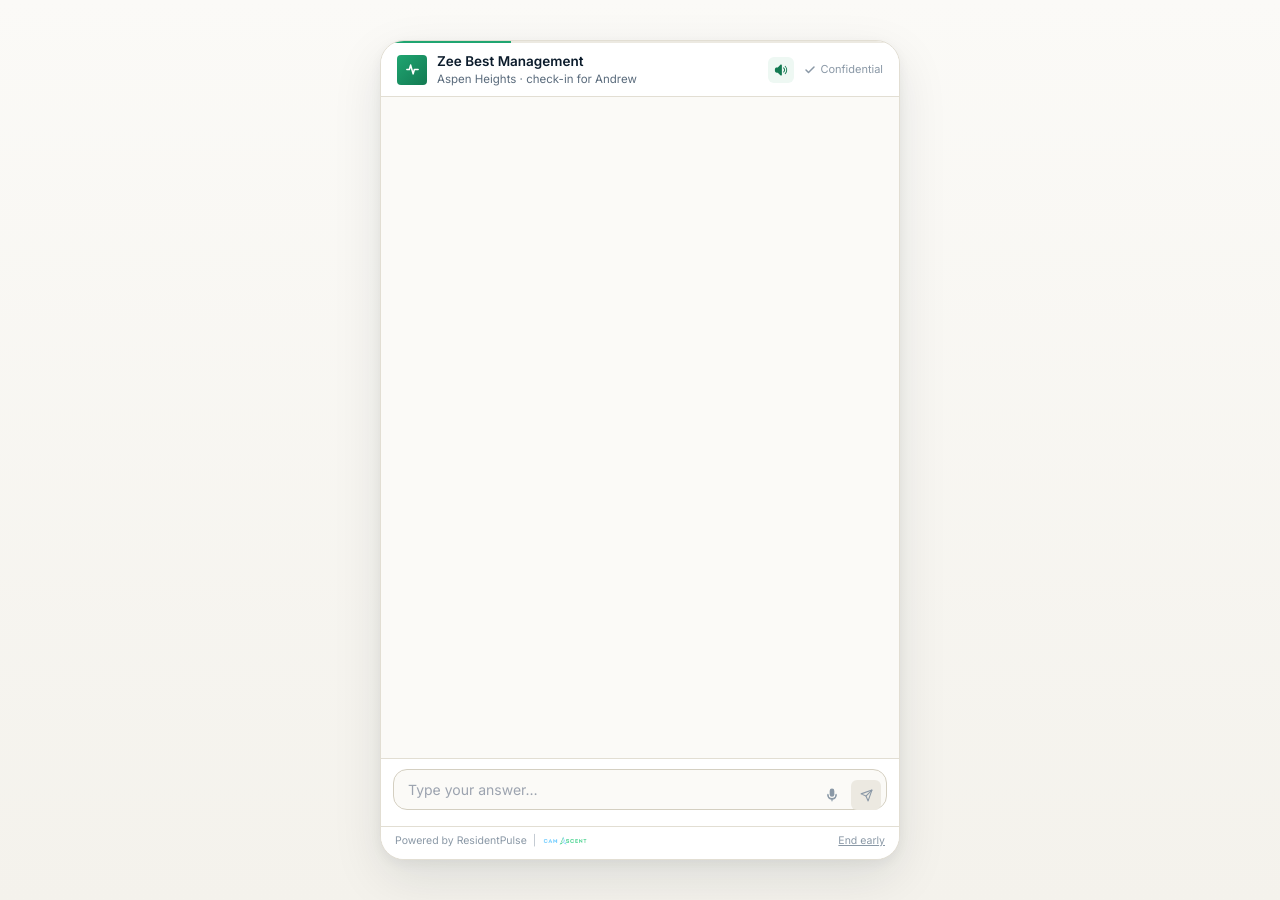
Test: ChatPage › End early PATCHes /complete and shows the thank-you state
Note: Resume puts us straight into conversation view
Click the button "End early" at (862, 841), box left=838, top=833, right=885, bottom=849
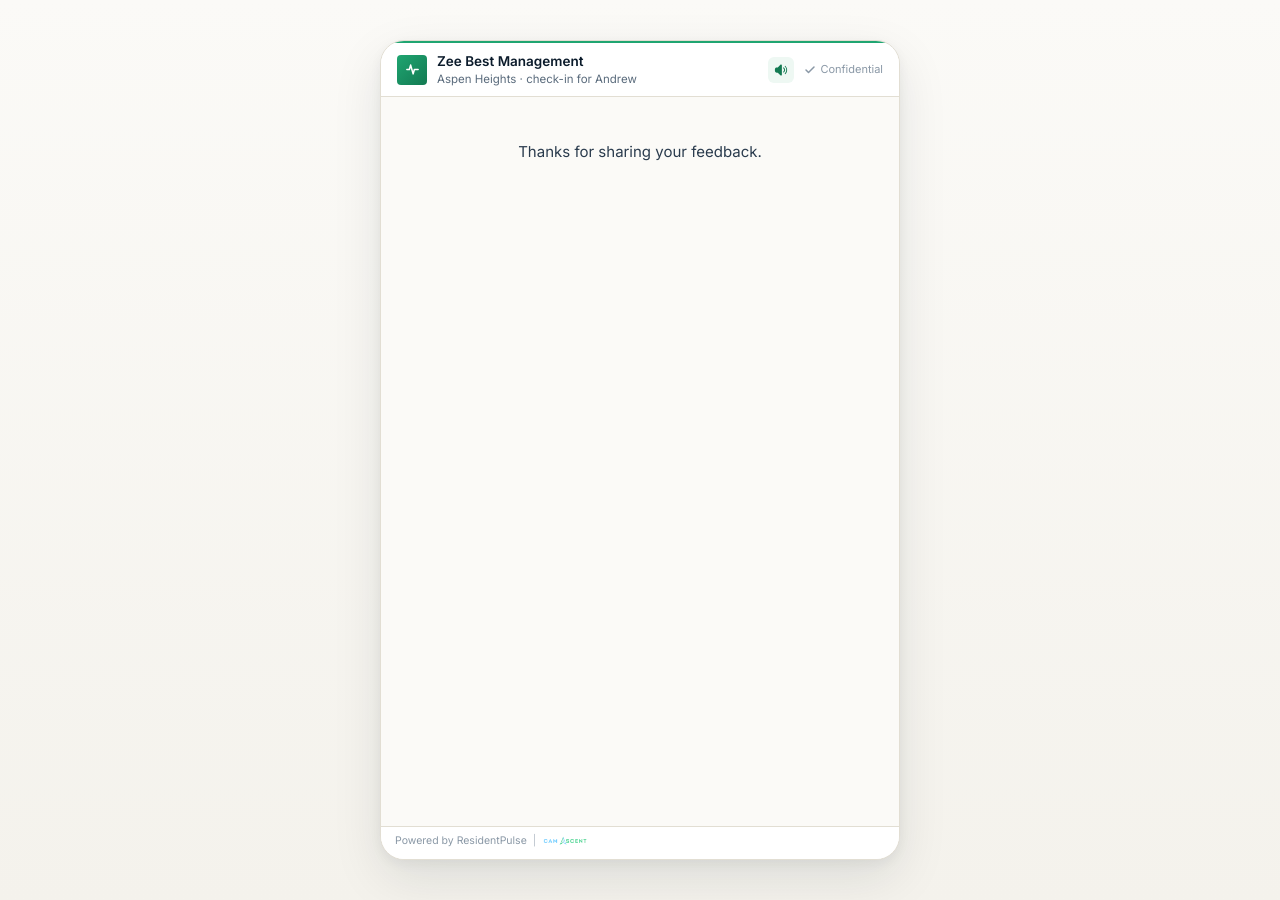
Expected: the field with placeholder "Type your answer" is not shown
Result: the text "Thanks for sharing your feedback." is shown at left=518, top=142, right=762, bottom=161
